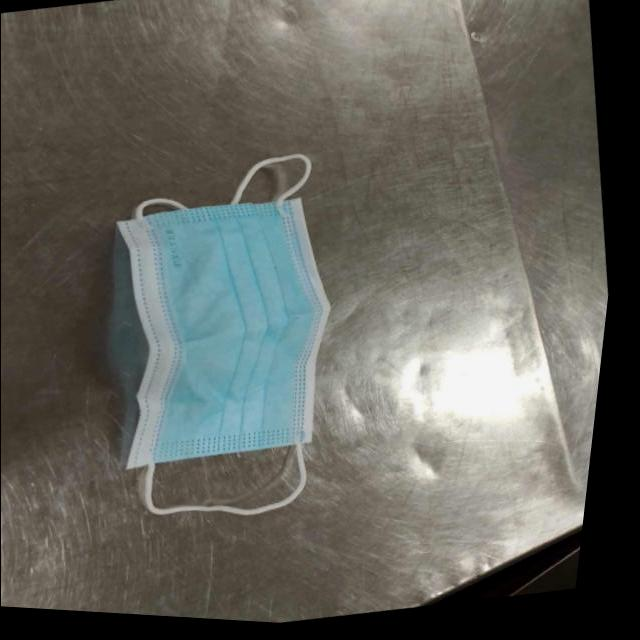General: (1, 0, 609, 626)
Infectious: (110, 153, 332, 516)
